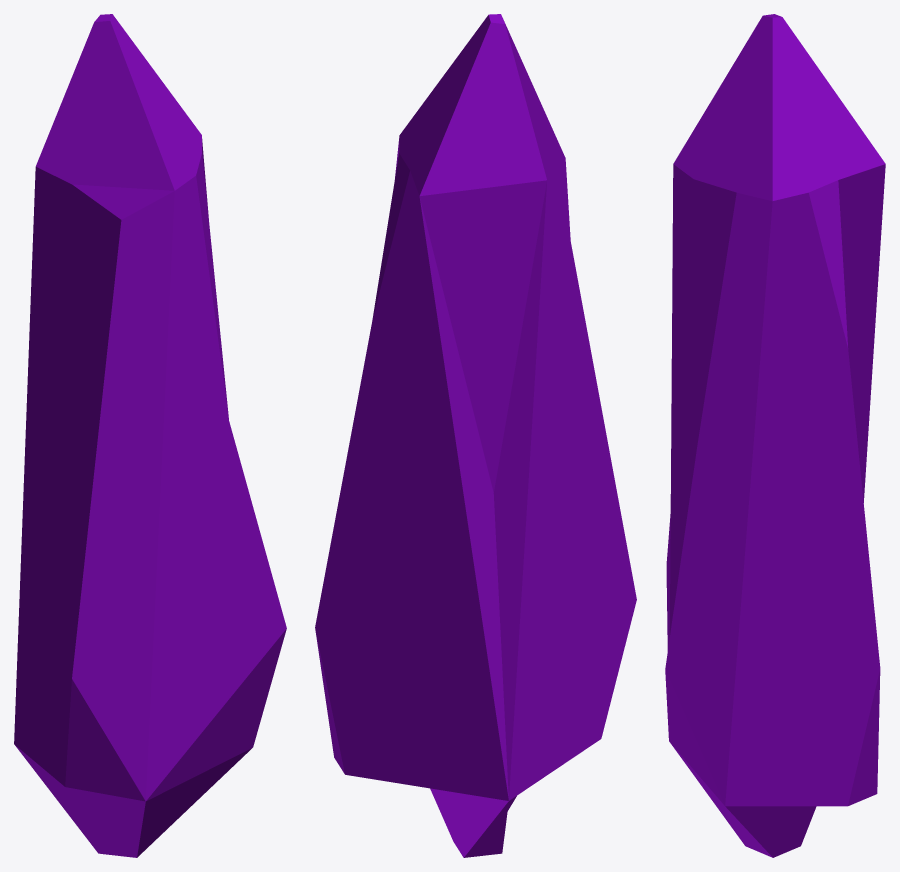
The model's file is crystal_1.fbx.
The picture shows the model from 3 angles, left to right: view 1: azimuth 30°, elevation 25°; view 2: azimuth 150°, elevation 25°; view 3: azimuth 270°, elevation 25°; orthographic projection.
Visible parts, largest first — view 1: Crystal_3; view 2: Crystal_3; view 3: Crystal_3.
Part boxes in pixels (x1,y1,x2,y2): Crystal_3: [14, 14, 286, 857]; Crystal_3: [315, 14, 636, 857]; Crystal_3: [665, 14, 885, 857].
Bounding box in the file's own units: 294 × 1095 × 266.
